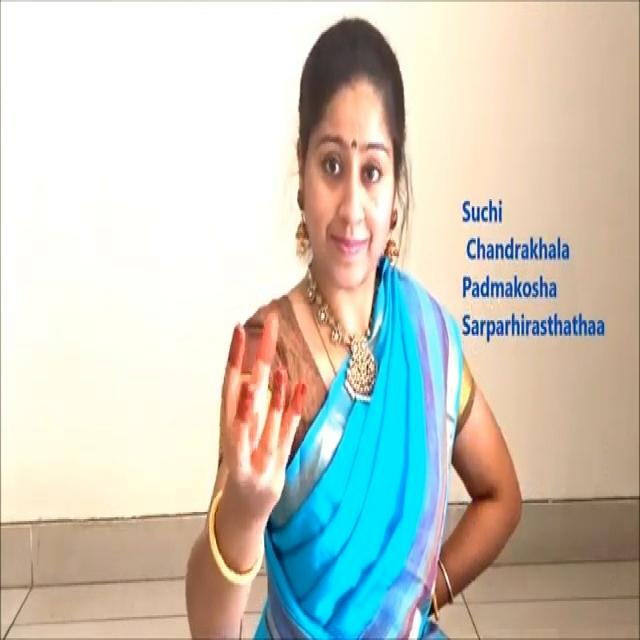Padmakosha: (212, 305, 315, 500)
lady: (289, 14, 414, 305)
text: (459, 180, 606, 356)
